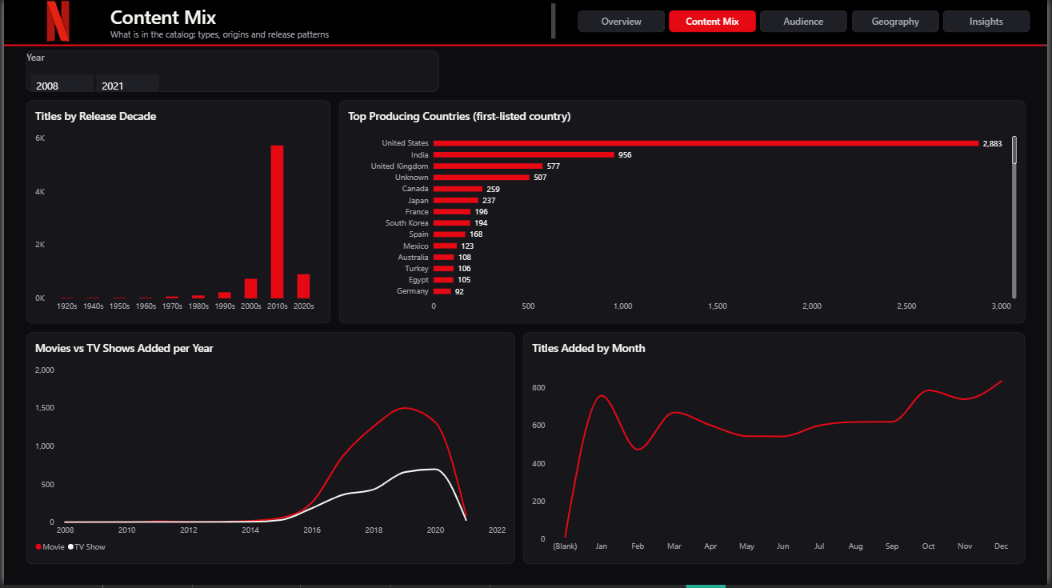

The dashboard page shown, as its layout file describes it:
{"tool":"powerbi","page":{"name":"Content Mix","canvas":[1920,1080],"ordinal":1},"visuals":[{"type":"textbox","box":[0,0,1920,84],"z":100},{"type":"textbox","box":[0,84,1920,3],"z":110},{"type":"image","box":[24,0,150,84],"z":120},{"type":"textbox","box":[196,10,820,66],"z":130},{"type":"actionButton","box":[1056,22,160,40],"z":140},{"type":"actionButton","box":[1224,22,160,40],"z":141},{"type":"actionButton","box":[1392,22,160,40],"z":142},{"type":"actionButton","box":[1560,22,160,40],"z":143},{"type":"actionButton","box":[1728,22,160,40],"z":144},{"type":"slicer","title":"Year","fields":{"Values":["dim_Date.Year"]},"box":[40,96,760,76],"z":1000},{"type":"columnChart","title":"Titles by Release Decade","fields":{"Category":["netflix_titles.Release Decade"],"Y":["_Measures.Total Titles"]},"box":[40,188,560,410],"z":1010},{"type":"clusteredBarChart","title":"Top Producing Countries (first-listed country)","fields":{"Category":["netflix_titles.Primary Country"],"Y":["_Measures.Total Titles"]},"box":[616,188,1264,410],"z":1020},{"type":"lineChart","title":"Movies vs TV Shows Added per Year","fields":{"Category":["dim_Date.Year"],"Series":["netflix_titles.type"],"Y":["_Measures.Total Titles"]},"box":[40,614,900,426],"z":1030},{"type":"lineChart","title":"Titles Added by Month","fields":{"Category":["dim_Date.Month Short"],"Y":["_Measures.Total Titles"]},"box":[956,614,924,426],"z":1040}]}

Visuals, with their boxes in screenshot pixels (x1, y1, x2, y2), scaled from the page's 1920x1080 canvas onto the 1052x588 screenshot:
textbox: (0,0,1051,46)
textbox: (0,46,1051,47)
image: (13,0,95,46)
textbox: (107,5,557,41)
actionButton: (579,12,666,34)
actionButton: (671,12,758,34)
actionButton: (763,12,850,34)
actionButton: (855,12,942,34)
actionButton: (947,12,1034,34)
"Year" slicer: (22,52,438,94)
"Titles by Release Decade" columnChart: (22,102,329,326)
"Top Producing Countries (first-listed country)" clusteredBarChart: (338,102,1030,326)
"Movies vs TV Shows Added per Year" lineChart: (22,334,515,566)
"Titles Added by Month" lineChart: (524,334,1030,566)
